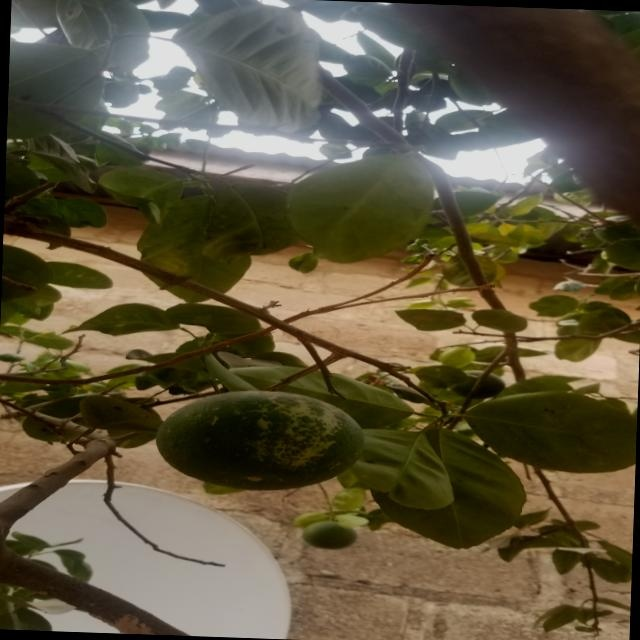agrume: (114, 376, 393, 519)
